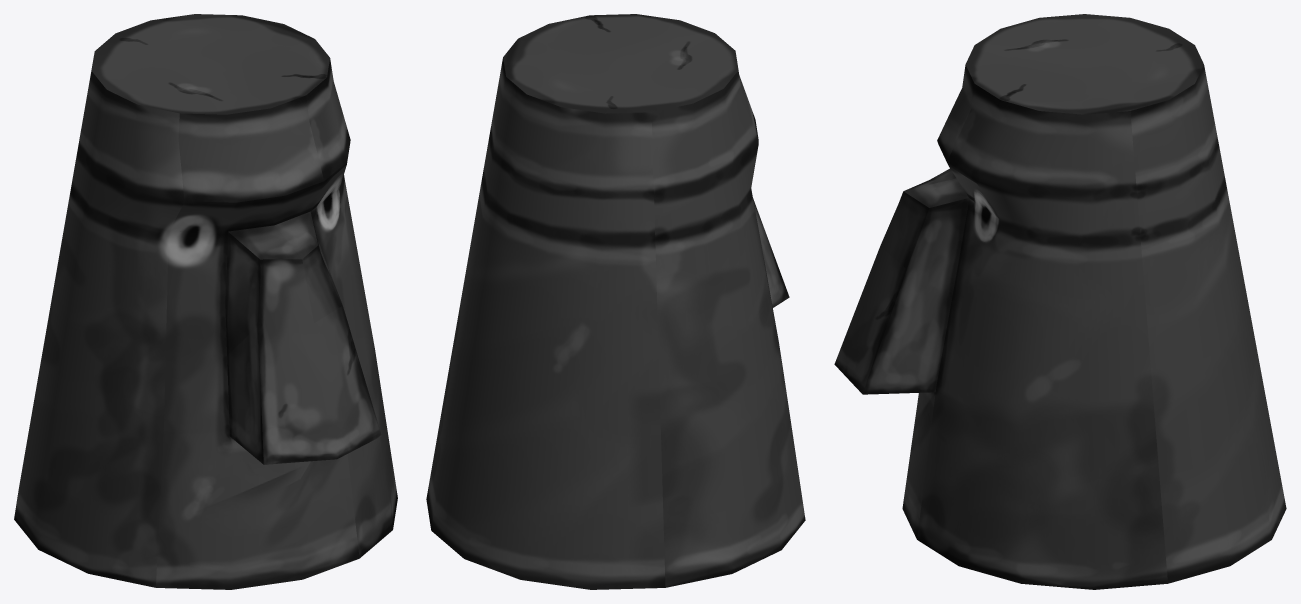
Rendered from moa.fbx.
The picture shows the model from 3 angles, left to right: view 1: azimuth 30°, elevation 25°; view 2: azimuth 150°, elevation 25°; view 3: azimuth 270°, elevation 25°; orthographic projection.
Parts seen in each view (by area): view 1: pCylinder1; view 2: pCylinder1; view 3: pCylinder1.
Part boxes in pixels (bbox=[...]): pCylinder1: bbox=[14, 14, 397, 589]; pCylinder1: bbox=[426, 14, 805, 589]; pCylinder1: bbox=[834, 14, 1286, 589].
Bounding box in the file's own units: 633 × 808 × 745.
Materials: 1 (1 with a texture image).
